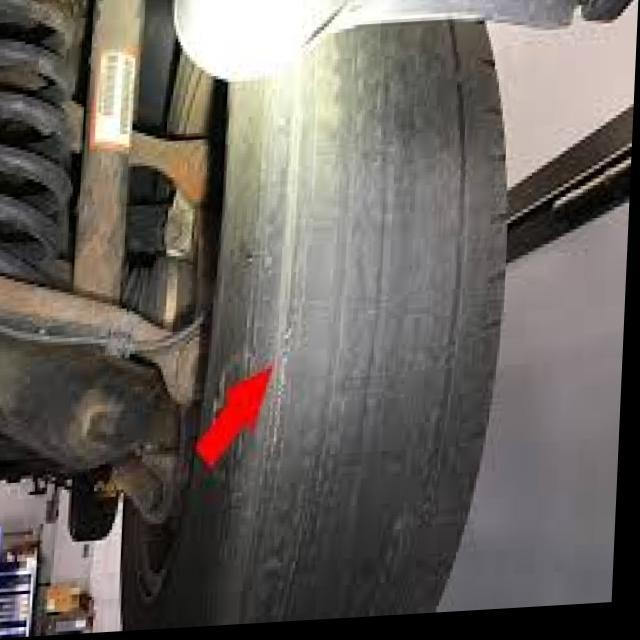Flat spots: (238, 66, 488, 614)
